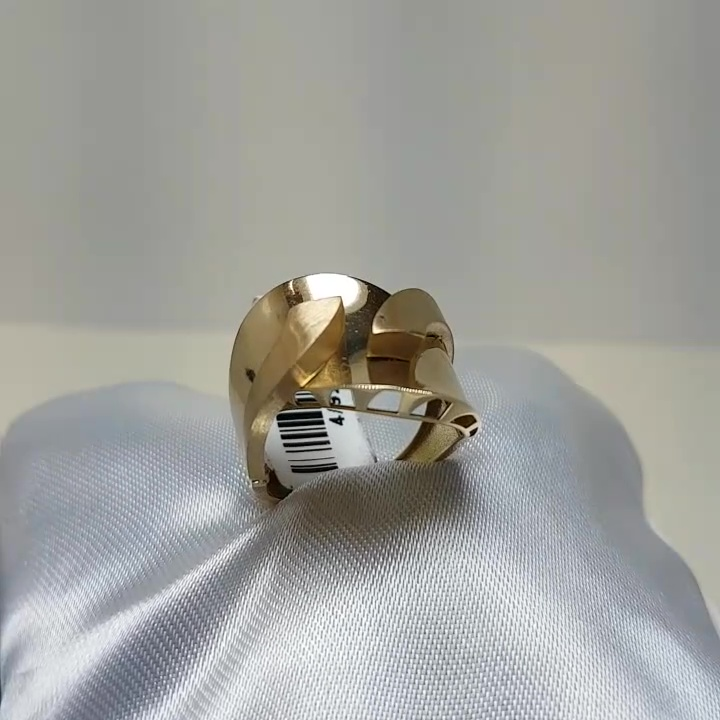Ring 4: (216, 265, 470, 535)
